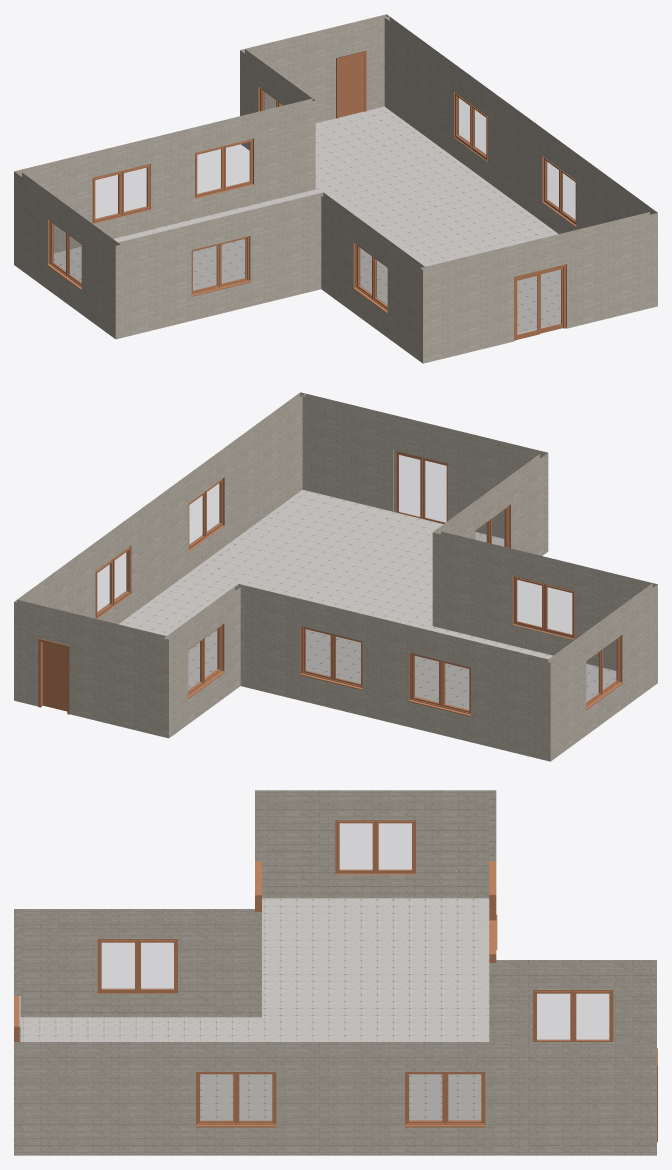
The model's file is telhado39a.glb.
3 renders of one model, top to bottom at view 1: azimuth 30°, elevation 25°; view 2: azimuth 150°, elevation 25°; view 3: azimuth 270°, elevation 25°, orthographic. The views are drawn at different scales.
Visible parts, largest first — view 1: object 3, root, object 2, object 4; view 2: object 3, root, object 2, object 4; view 3: object 3, root, object 2, object 4.
Part boxes in pixels (x1,y1,x2,y2): object 3: [14, 14, 657, 363]; root: [53, 51, 560, 333]; object 2: [53, 92, 575, 334]; object 4: [47, 51, 576, 340]; object 3: [14, 392, 657, 761]; root: [119, 489, 616, 709]; object 2: [97, 455, 616, 709]; object 4: [38, 451, 622, 716]; object 3: [14, 790, 656, 1155]; root: [20, 898, 489, 1120]; object 2: [102, 823, 608, 1120]; object 4: [14, 820, 657, 1142].
Bounding box in the file's own units: 15.06 × 3.05 × 16.02.
Materials: 7 (3 with a texture image).
